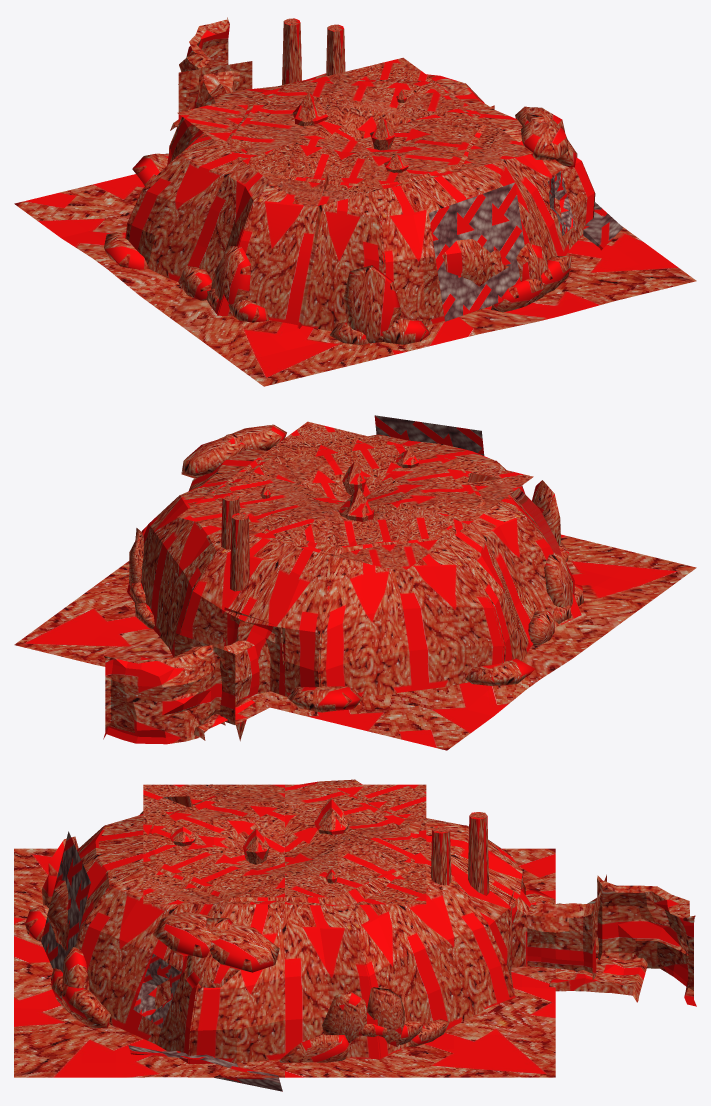
The model's file is WORLD 1.fbx.
The picture shows the model from 3 angles, top to bottom: view 1: azimuth 30°, elevation 25°; view 2: azimuth 150°, elevation 25°; view 3: azimuth 270°, elevation 25°; orthographic projection. The views are drawn at different scales.
Visible parts, largest first — view 1: pCube4, pCube1, pCube10, pPlane1, pCube22, Cube, pCube30, Curve, pCube13, pCube23, pCube24, pCube7 (+9 smaller); view 2: pCube4, pCube10, pCube1, Curve, Cube, pCube30, pPlane1, pCube6, pCube23, pCube7, pCube13, pCube22 (+5 smaller); view 3: pCube4, pCube10, pCube1, Curve, pCube30, Cube, pCube32, pPlane1, Flat, pCube31, pPlane2, pCube23 (+7 smaller).
Part boxes in pixels (bbox=[...]): pCube4: bbox=[125, 73, 595, 331]; pCube1: bbox=[14, 174, 696, 386]; pCube10: bbox=[177, 57, 533, 208]; pPlane1: bbox=[429, 182, 524, 321]; pCube22: bbox=[330, 265, 430, 344]; Cube: bbox=[178, 61, 252, 123]; pCube30: bbox=[515, 106, 577, 167]; Curve: bbox=[178, 17, 229, 101]; pCube13: bbox=[214, 245, 251, 304]; pCube23: bbox=[282, 18, 301, 85]; pCube24: bbox=[491, 278, 543, 312]; pCube7: bbox=[104, 231, 148, 269]; pCube4: bbox=[126, 434, 581, 697]; pCube10: bbox=[177, 421, 533, 572]; pCube1: bbox=[14, 534, 696, 750]; Curve: bbox=[103, 641, 225, 744]; Cube: bbox=[174, 607, 285, 725]; pCube30: bbox=[181, 424, 286, 478]; pPlane1: bbox=[374, 415, 484, 455]; pCube6: bbox=[287, 686, 362, 712]; pCube23: bbox=[230, 513, 250, 741]; pCube7: bbox=[465, 658, 534, 685]; pCube13: bbox=[544, 552, 574, 607]; pCube22: bbox=[532, 480, 569, 561]; pCube4: bbox=[47, 779, 525, 1063]; pCube10: bbox=[143, 784, 426, 905]; pCube1: bbox=[14, 848, 555, 1077]; Curve: bbox=[597, 875, 696, 1006]; pCube30: bbox=[153, 912, 279, 987]; Cube: bbox=[508, 869, 606, 979]; pCube32: bbox=[279, 991, 449, 1062]; pPlane1: bbox=[41, 831, 90, 972]; Flat: bbox=[549, 957, 647, 1002]; pCube31: bbox=[358, 987, 423, 1046]; pPlane2: bbox=[133, 953, 181, 1028]; pCube23: bbox=[468, 812, 489, 895].
Size of the model in its own units: 25654 by 12626 by 32070.
Materials: 2 (2 with a texture image).
